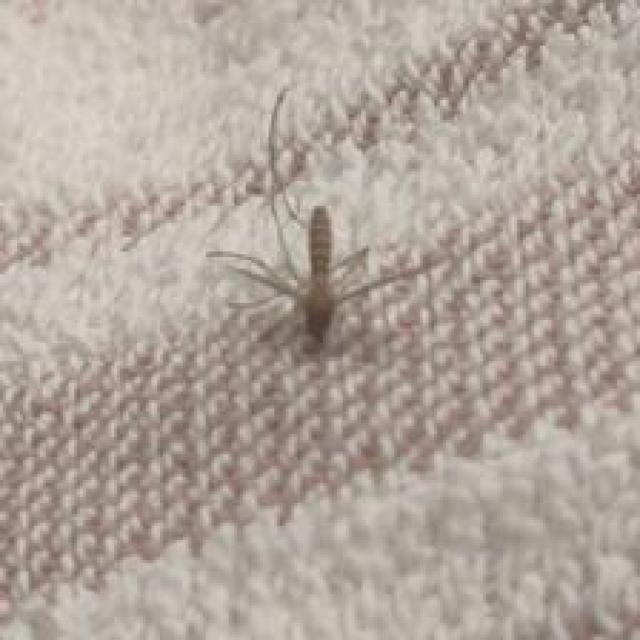Culex: (205, 202, 444, 362)
